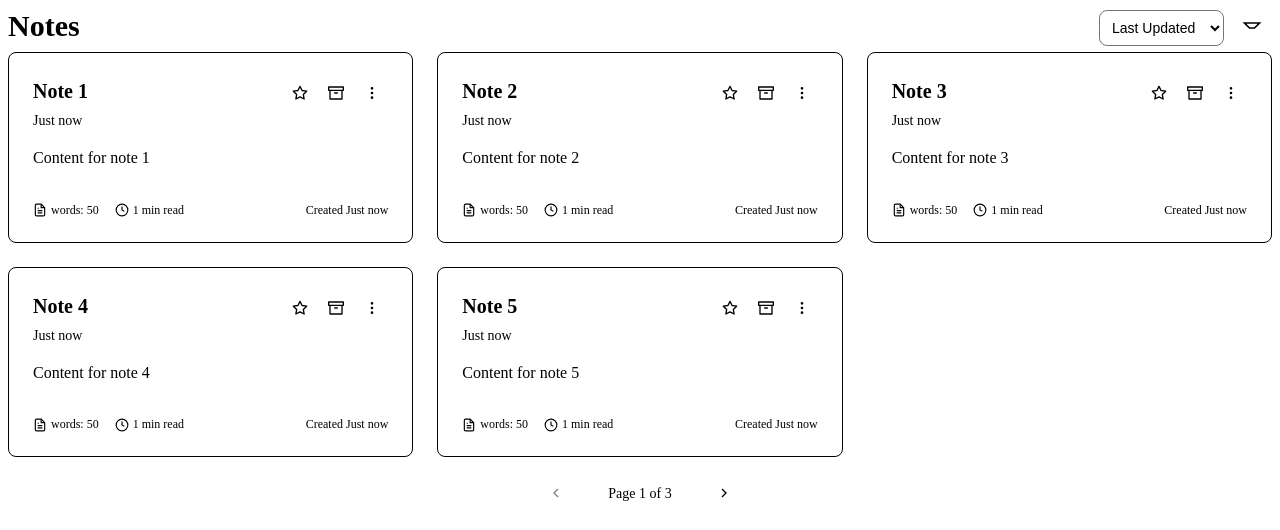
Scenario: NotesList Pagination › should navigate to next page correctly
// Click next page button
Click the button named "Next page": (724, 493) x1=704 y1=473 x2=744 y2=513
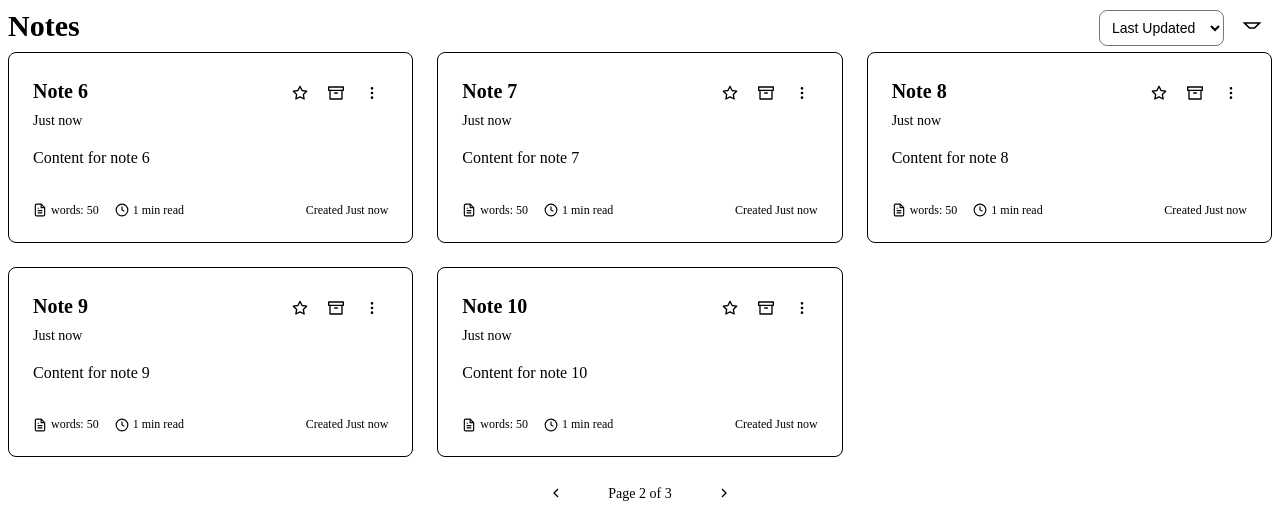
Expected: the number of elements with class "note-item-wrapper" is 5, x1=8 y1=52 x2=413 y2=243; x1=437 y1=52 x2=843 y2=243; x1=867 y1=52 x2=1272 y2=243; x1=8 y1=267 x2=413 y2=457; x1=437 y1=267 x2=843 y2=457
Now the text "Page 2 of 3" is shown, box x1=608 y1=486 x2=672 y2=501
